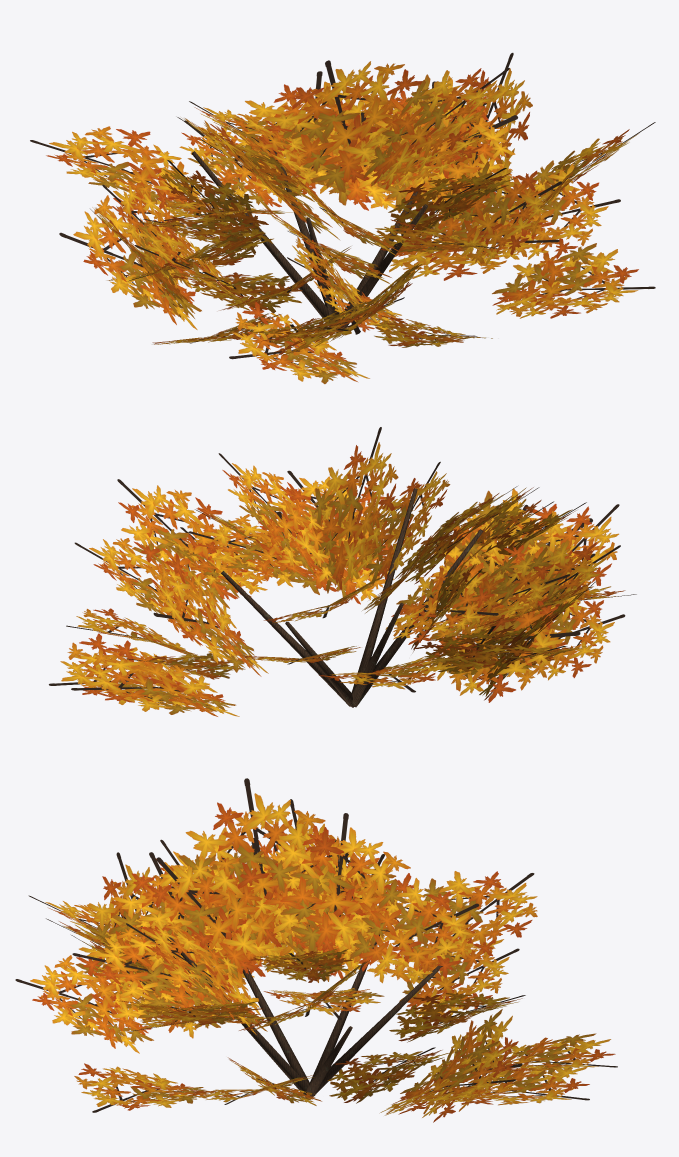
Rendered from shrub_autumn_gold.glb.
The picture shows the model from 3 angles, top to bottom: view 1: azimuth 30°, elevation 25°; view 2: azimuth 150°, elevation 25°; view 3: azimuth 270°, elevation 25°; orthographic projection. The views are drawn at different scales.
Parts seen in each view (by area): view 1: ShrubFoliage, ShrubTwigs; view 2: ShrubFoliage, ShrubTwigs; view 3: ShrubFoliage, ShrubTwigs.
Part boxes in pixels (<box>): ShrubFoliage: <box>30,52,655,384</box>; ShrubTwigs: <box>191,135,435,332</box>; ShrubFoliage: <box>49,427,636,716</box>; ShrubTwigs: <box>221,488,483,707</box>; ShrubFoliage: <box>15,778,617,1122</box>; ShrubTwigs: <box>167,900,442,1097</box>.
Bounding box in the file's own units: 3.64 × 1.66 × 3.76.
2 materials, 2 textured.
